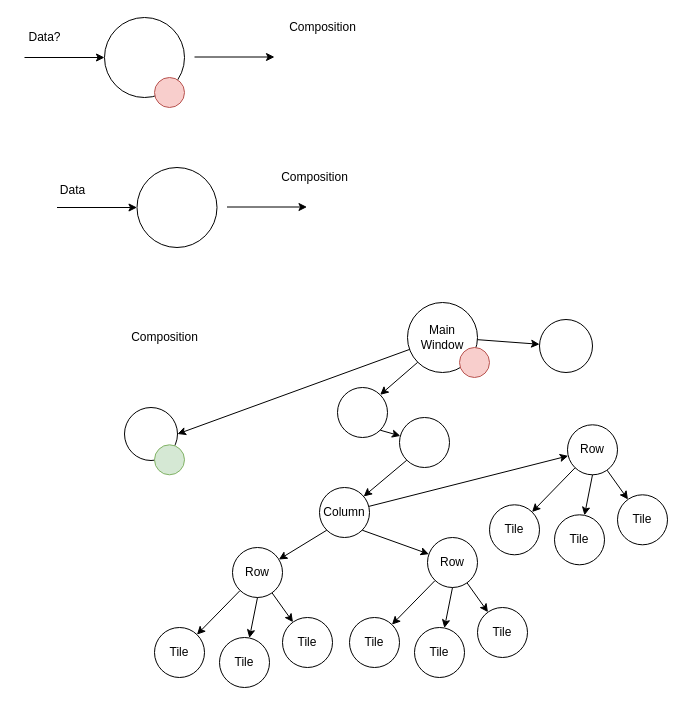
Image size: 685x705. Some labels were removed from this diagram. Each missing label, with the box of its shape:
Board View: (398, 416, 450, 468)
Composable: (136, 166, 217, 248)
Composable App: (104, 16, 184, 98)
Content: (336, 386, 388, 438)
GetID Dialog: (124, 406, 178, 460)
Menu: (538, 318, 592, 372)
